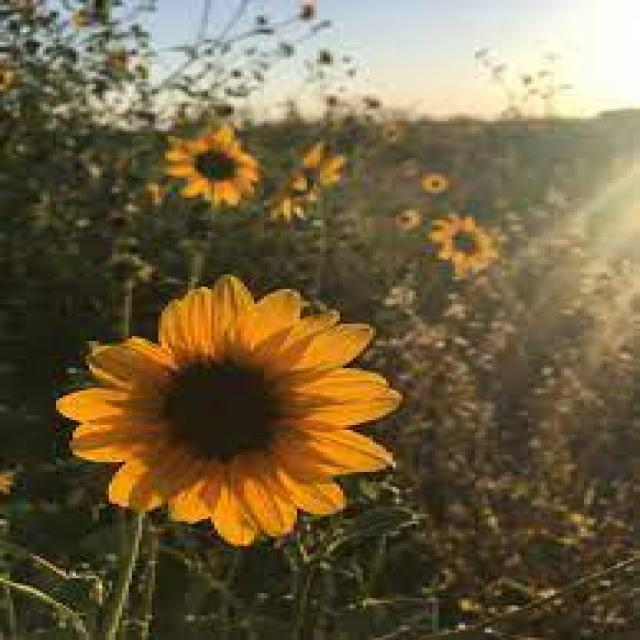sunflower: (52, 275, 402, 546), (162, 122, 260, 205), (270, 138, 346, 219), (426, 210, 498, 276), (398, 211, 418, 229), (425, 175, 446, 191)
